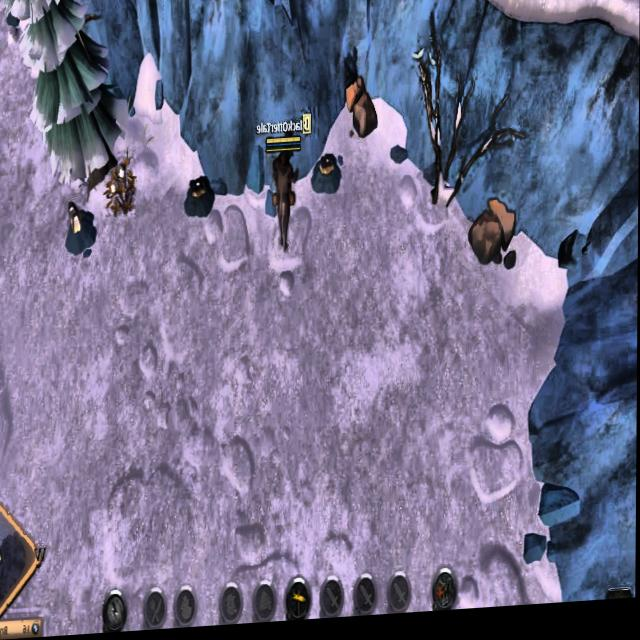copperore: (62, 195, 101, 262), (183, 169, 216, 222), (309, 152, 345, 200)
limestone: (466, 200, 518, 283), (344, 75, 382, 146)
